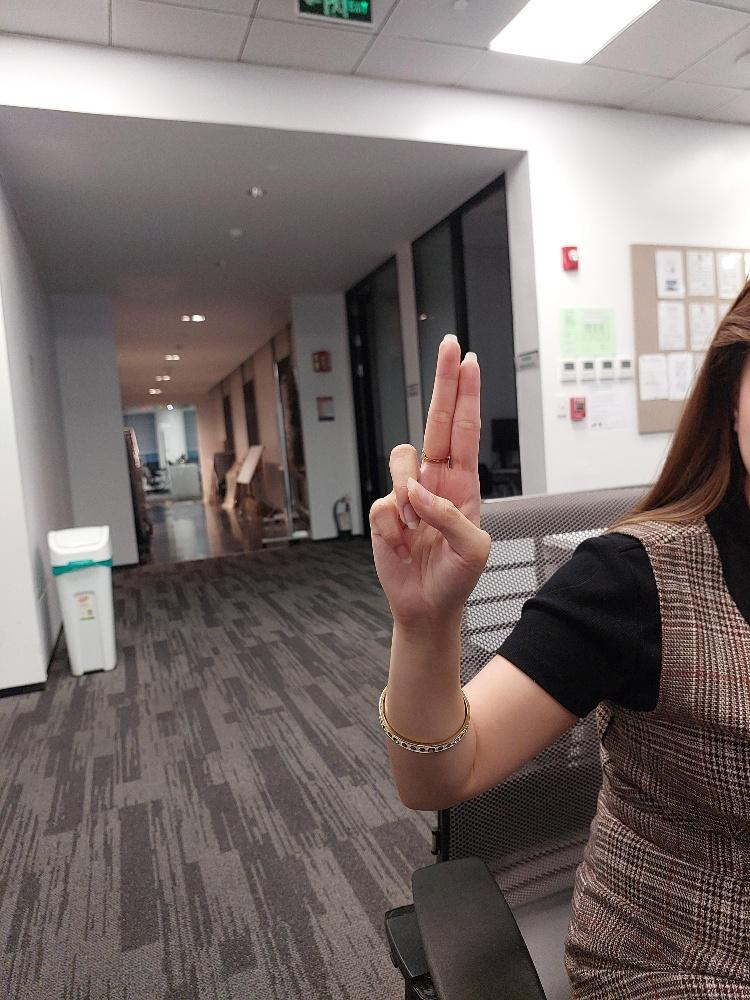u: (366, 330, 496, 634)
